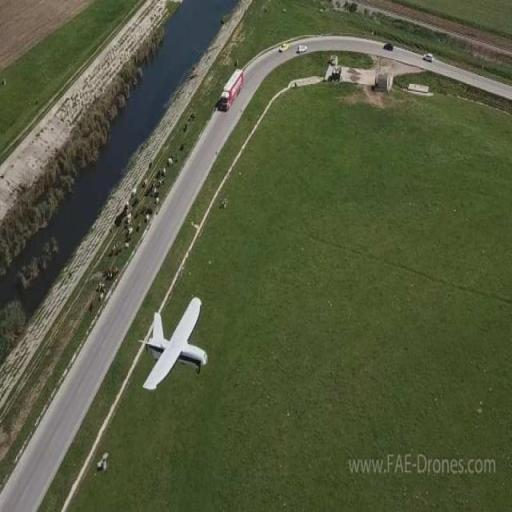uav: (140, 293, 210, 411)
